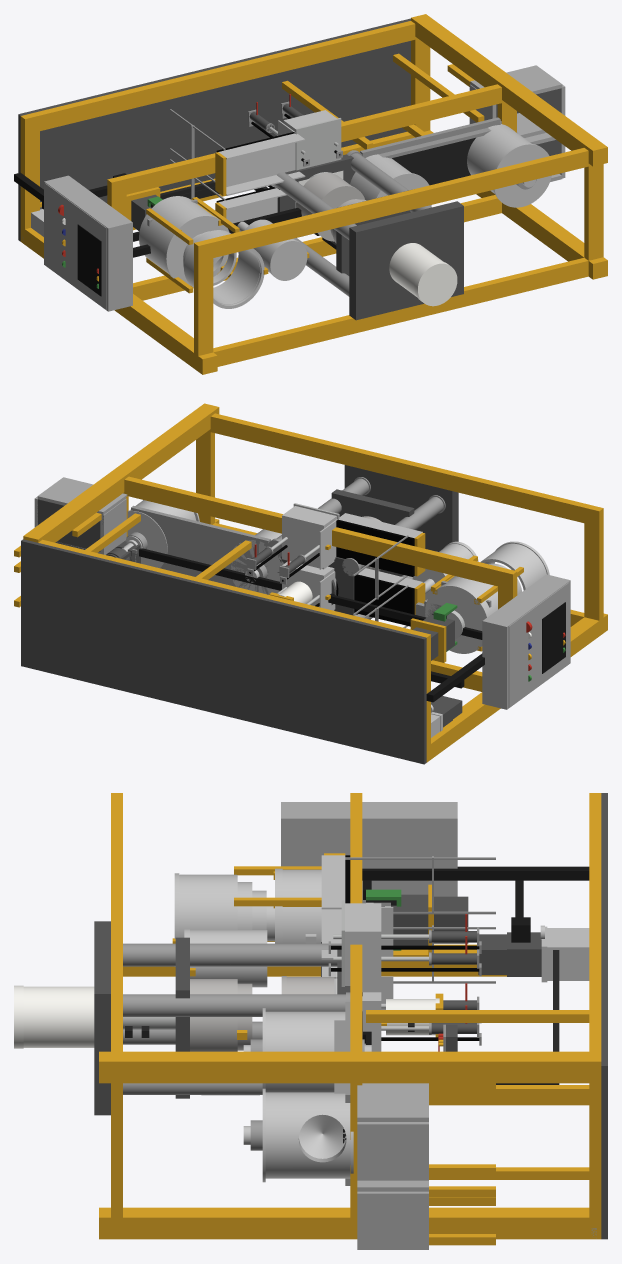
Rendered from molding-machine.fbx.
The picture shows the model from 3 angles, top to bottom: view 1: azimuth 30°, elevation 25°; view 2: azimuth 150°, elevation 25°; view 3: azimuth 270°, elevation 25°; orthographic projection. The views are drawn at different scales.
Visible parts, largest first — view 1: BasePlate, Press_Crown, BeamBack_Z1000, BeamBack_Z0, BeamFront_Z1000, Leg_1300_360, BeamBack_Z500, CP_Box, CP_Door, Leg_0_0, Leg_1300_0, Conv_DriveRoller (1) (+38 smaller); view 2: BasePlate, BeamBack_Z1000, BeamBack_Z500, Leg_1300_360, CP_Box, CP_Door, Press_Crown, Conv_BedPlate, Leg_0_0, BeamLeft_Z1000, Cond_Conv, BeamBack_Z0 (+28 smaller); view 3: Leg_1300_360, Leg_1300_0, CP_Box, Conv_DriveRoller (1), PressCol_4, PressCol_2, HydCyl_Barrel, BinA_WallBk, BinB_WallBk, Conv_IdlerRoller, BeamBack_Z0, Hopper_UpperBody (+42 smaller).
Boxes of the visible parts, x1,y1,x2,y2 form: BasePlate: [18, 18, 410, 241]; Press_Crown: [349, 201, 463, 320]; BeamBack_Z1000: [194, 148, 588, 261]; BeamBack_Z0: [20, 21, 417, 133]; BeamFront_Z1000: [194, 257, 588, 370]; Leg_1300_360: [411, 14, 607, 166]; BeamBack_Z500: [107, 84, 504, 197]; CP_Box: [44, 175, 132, 311]; CP_Door: [45, 183, 106, 309]; Leg_0_0: [20, 226, 217, 374]; Leg_1300_0: [424, 130, 607, 279]; Conv_DriveRoller (1): [467, 124, 549, 204]; BasePlate: [21, 539, 426, 764]; BeamBack_Z1000: [208, 413, 603, 526]; BeamBack_Z500: [123, 476, 517, 589]; Leg_1300_360: [23, 403, 219, 542]; CP_Box: [482, 574, 570, 709]; CP_Door: [508, 582, 569, 707]; Press_Crown: [344, 465, 458, 551]; Conv_BedPlate: [153, 519, 268, 594]; Leg_0_0: [426, 613, 607, 762]; BeamLeft_Z1000: [584, 507, 603, 635]; Cond_Conv: [139, 548, 482, 639]; BeamBack_Z0: [38, 539, 430, 652]; Leg_1300_360: [99, 1051, 601, 1083]; Leg_1300_0: [99, 1207, 601, 1239]; CP_Box: [281, 802, 457, 906]; Conv_DriveRoller (1): [265, 1092, 350, 1178]; PressCol_4: [123, 994, 345, 1016]; PressCol_2: [123, 943, 341, 966]; HydCyl_Barrel: [23, 986, 94, 1047]; BinA_WallBk: [357, 1191, 428, 1249]; BinB_WallBk: [357, 1122, 428, 1180]; Conv_IdlerRoller: [265, 1011, 345, 1092]; BeamBack_Z0: [589, 793, 601, 1087]; Hopper_UpperBody: [179, 874, 237, 937].
Size of the model in its own units: 163 by 43.5 by 124.
